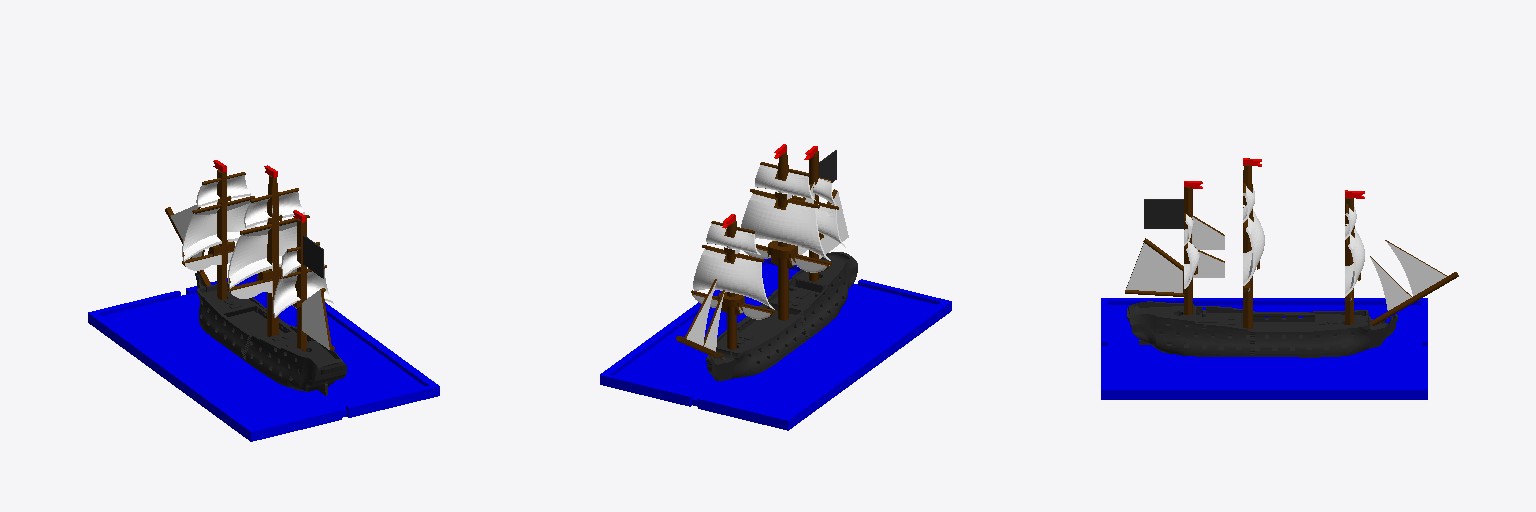
The picture shows the model from 3 angles: view 1: azimuth 30°, elevation 25°; view 2: azimuth 150°, elevation 25°; view 3: azimuth 270°, elevation 25°; orthographic projection.
Visible parts, largest first — view 1: test4R.obj; view 2: test4R.obj; view 3: test4R.obj.
Part boxes in pixels (bbox=[...]): test4R.obj: bbox=[88, 160, 439, 441]; test4R.obj: bbox=[600, 144, 951, 430]; test4R.obj: bbox=[1101, 158, 1458, 399].
Size of the model in its own units: 4.28 by 4.23 by 7.03.
4 materials, 1 textured.